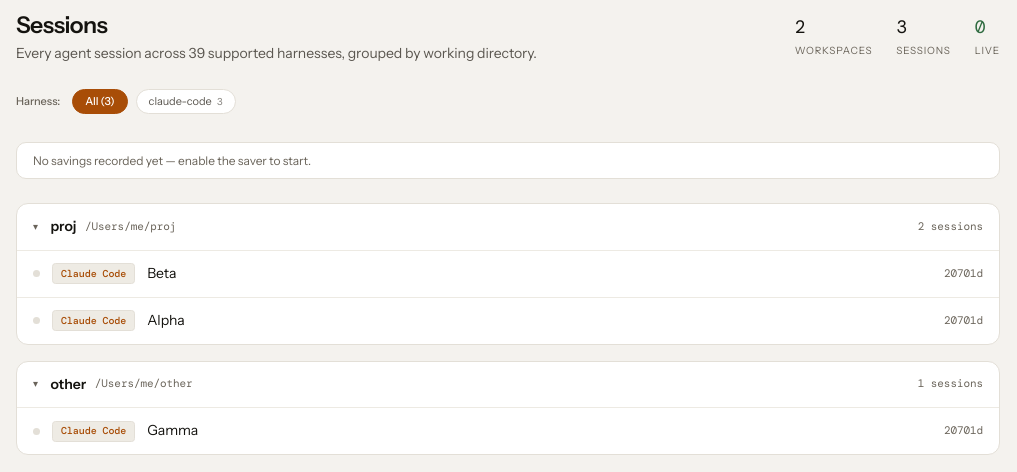
Test case: ClaudeSessionsView — workspace grouping › toggles a group's rows when its header is clicked
The width and height of the screenshot is (1017, 472).
Expected: the text "Beta" is shown, [147,264,176,282]
Click the button "▾ proj /Users/me/proj 2 sessions" at (131, 226), box [17,204,999,250]
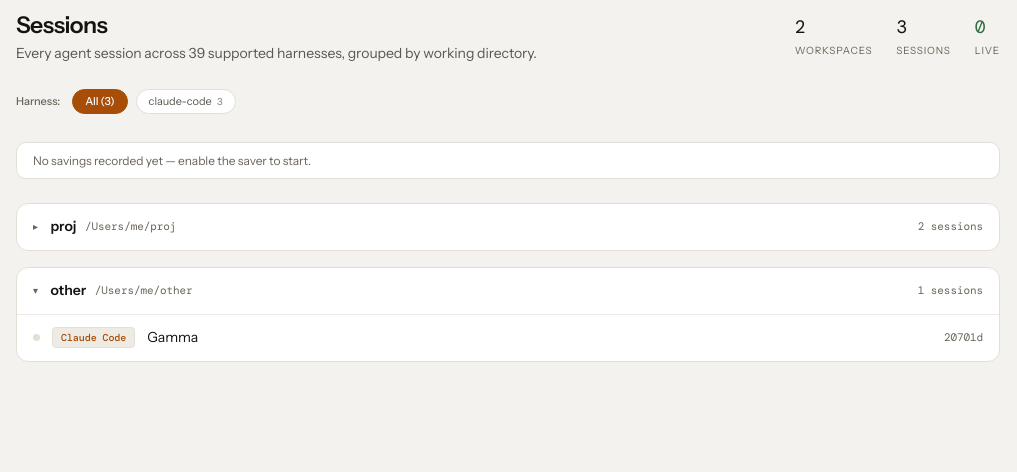
Expected: the text "Gamma" is shown, [147,328,198,346]
Now the button "Beta" is gone
